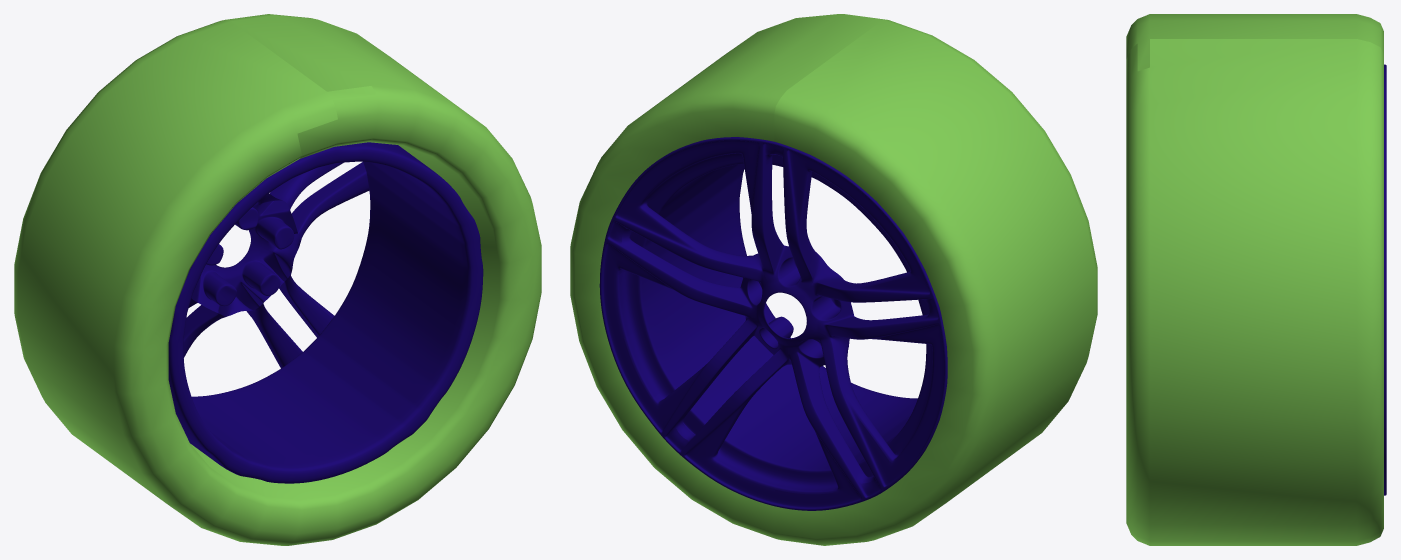
Rendered from llanta1.obj.
3 views of the same model, side by side, from view 1: azimuth 30°, elevation 25°; view 2: azimuth 150°, elevation 25°; view 3: azimuth 270°, elevation 25° (orthographic). The views are drawn at different scales.
Visible parts, largest first — view 1: llanta006, llanta4; view 2: llanta006, llanta4; view 3: llanta006, llanta4.
Part boxes in pixels (x1,y1,x2,y2): llanta006: (14,14,541,545); llanta4: (168,142,483,483); llanta006: (570,14,1097,545); llanta4: (599,137,947,510); llanta006: (1126,14,1383,545); llanta4: (1384,64,1386,495).
Bounding box in the file's own units: 5.58 × 5.61 × 2.75.
